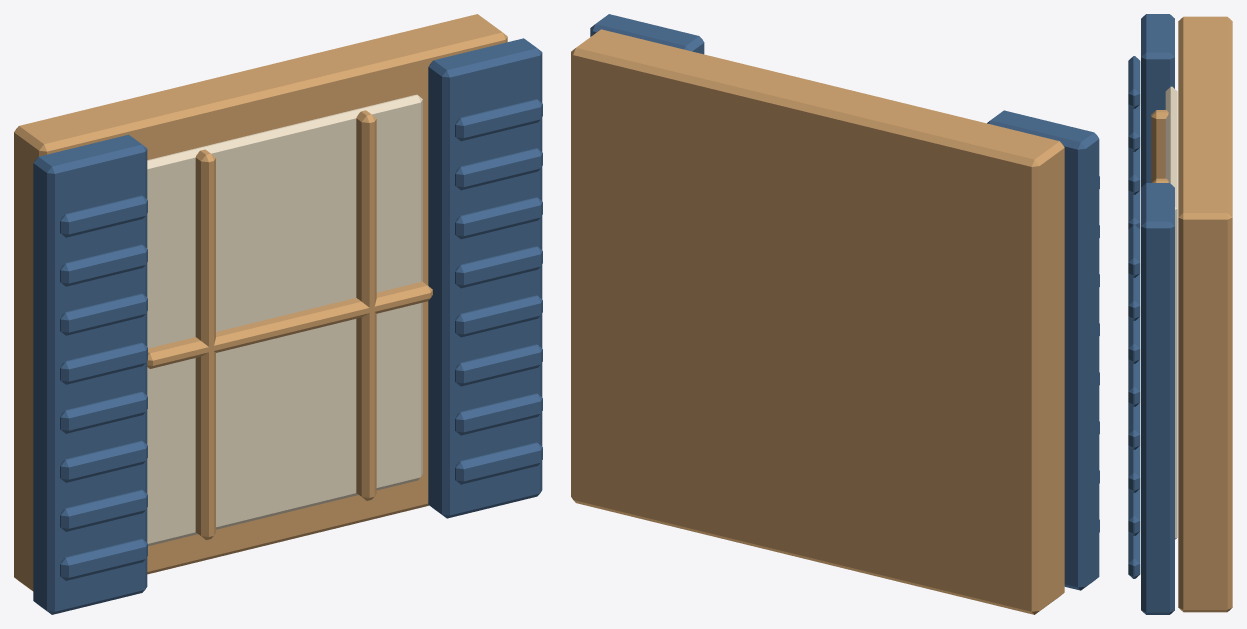
File: window-shutters.glb
3 renders of one model, left to right at view 1: azimuth 30°, elevation 25°; view 2: azimuth 150°, elevation 25°; view 3: azimuth 270°, elevation 25°, orthographic. The views are drawn at different scales.
Visible parts, largest first — view 1: window_shutters; view 2: window_shutters; view 3: window_shutters.
Part boxes in pixels (box(x1,y1,x2,y2)): window_shutters: box(14, 14, 542, 614); window_shutters: box(571, 14, 1099, 614); window_shutters: box(1128, 14, 1232, 614).
Bounding box in the file's own units: 1.48 × 1.3 × 0.3075.
